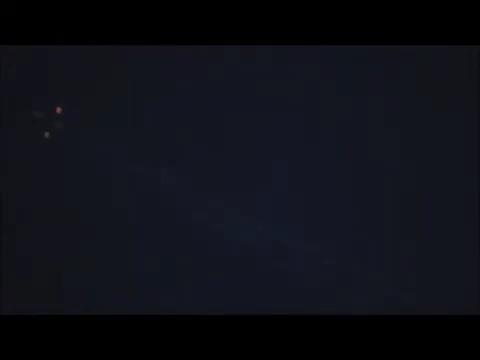Plane: (6, 95, 93, 146)
